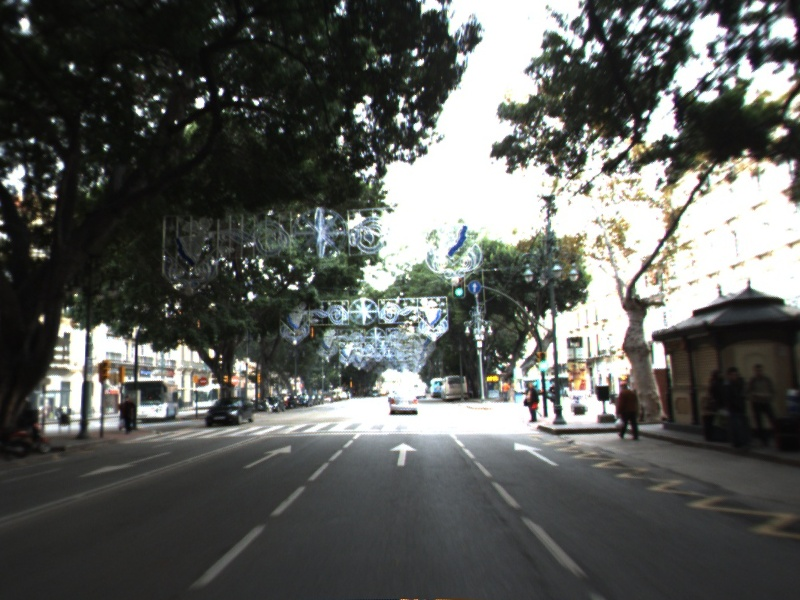STRAIGHT: (241, 443, 294, 470), (511, 440, 562, 468), (387, 441, 420, 468)
